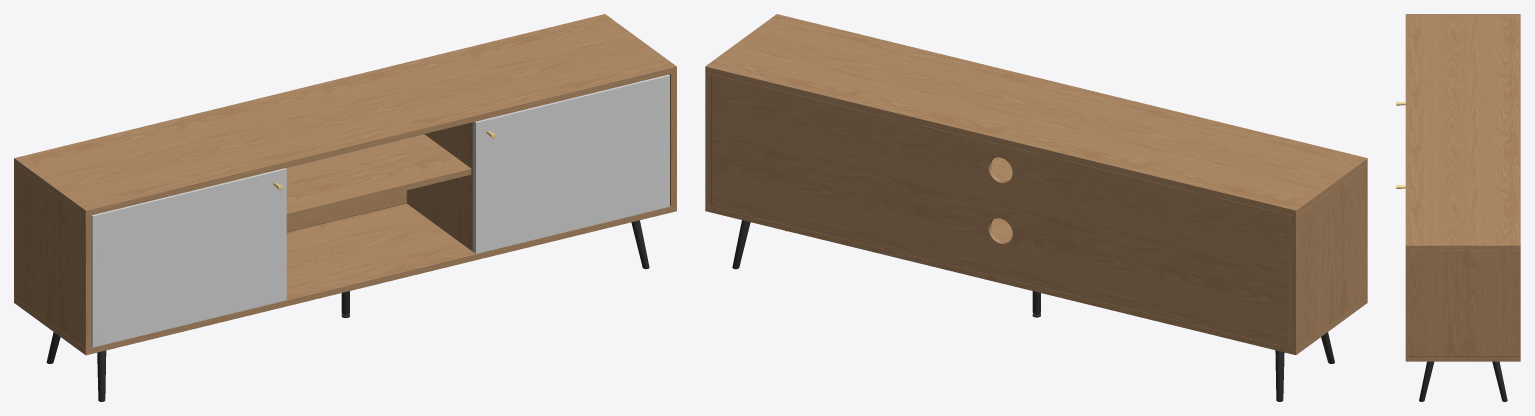
The model's file is B07VHNMRY8.glb.
3 views of the same model, side by side, from view 1: azimuth 30°, elevation 25°; view 2: azimuth 150°, elevation 25°; view 3: azimuth 270°, elevation 25° (orthographic). The views are drawn at different scales.
Visible parts, largest first — view 1: B07VHNMRY8; view 2: B07VHNMRY8; view 3: B07VHNMRY8.
Boxes of the visible parts, x1=… form: B07VHNMRY8: x1=14, y1=14, x2=676, y2=401; B07VHNMRY8: x1=705, y1=14, x2=1367, y2=401; B07VHNMRY8: x1=1396, y1=14, x2=1520, y2=401.
Bounding box in the file's own units: 1.76 × 0.5799 × 0.4001.
1 material, 1 textured.
